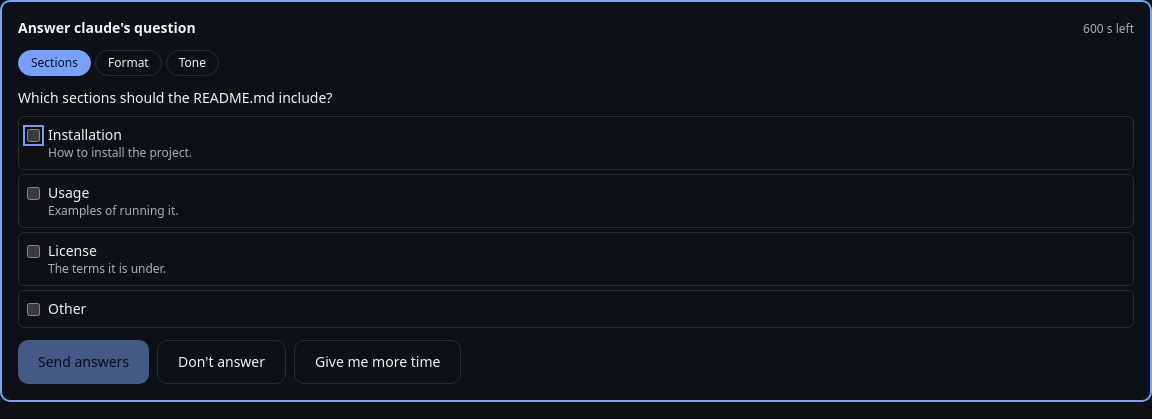
Test: the card of a question of Claude — plan 24, B-13, B-14 › previews the option in focus as safe markdown, says when there is none, and never on a multiple choice — S-70
Expected: the element "Preview" is not shown
Step 1. Click the tab "Format" → click(128, 63), box [95,50,162,76]
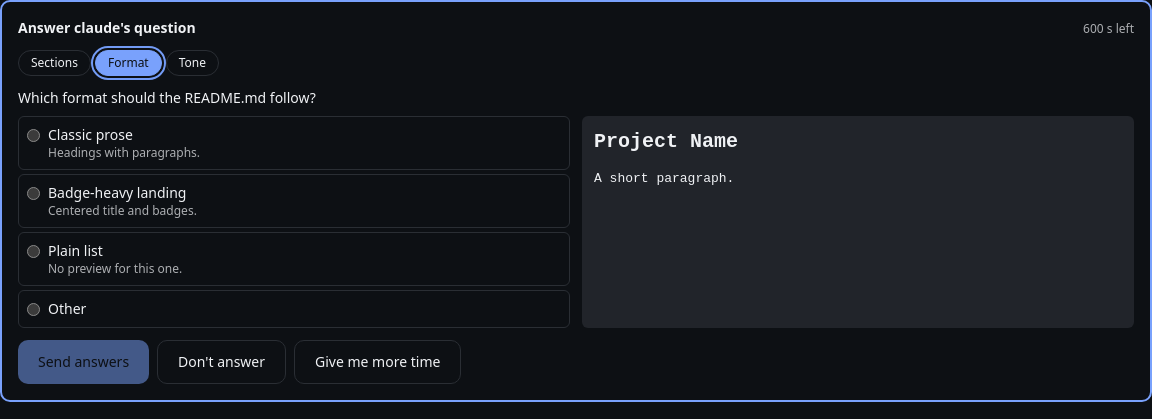
Expected: the heading "Project Name" is shown, [594,130,738,153]
Step 2. Hover over the text "Badge-heavy landing" → (122, 193), box [48,183,197,203]
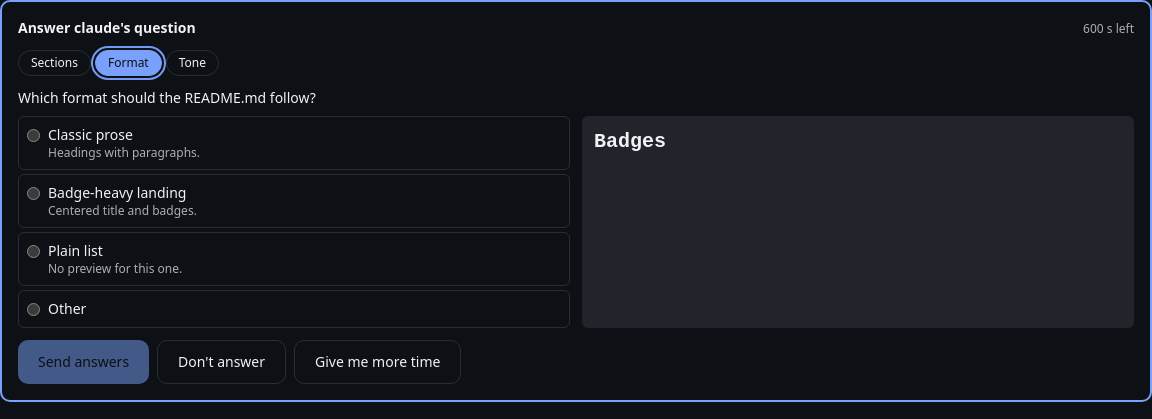
Expected: the heading "Badges" is shown, [594,130,666,153]
Step 3. Hover over the text "Plain list" → (75, 250), box [48,241,103,260]
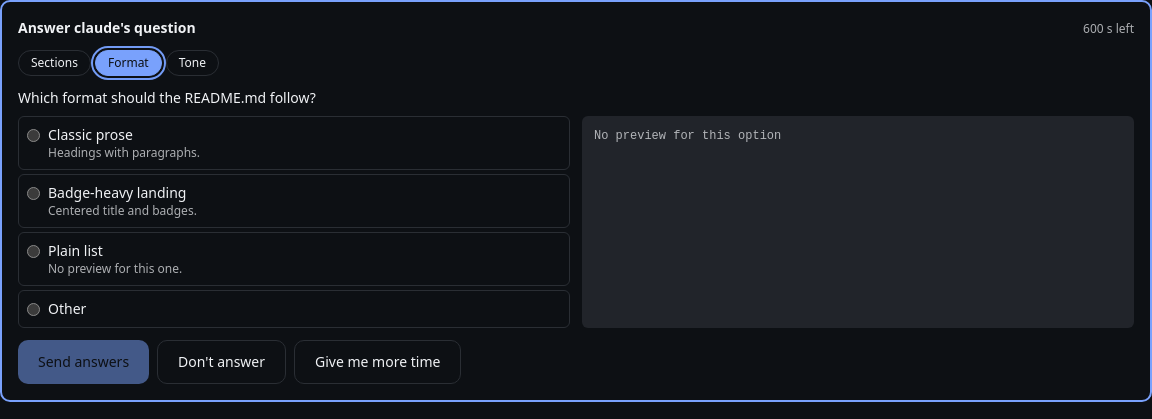
Expected: the text "No preview for this option" is shown, [594,129,781,143]
